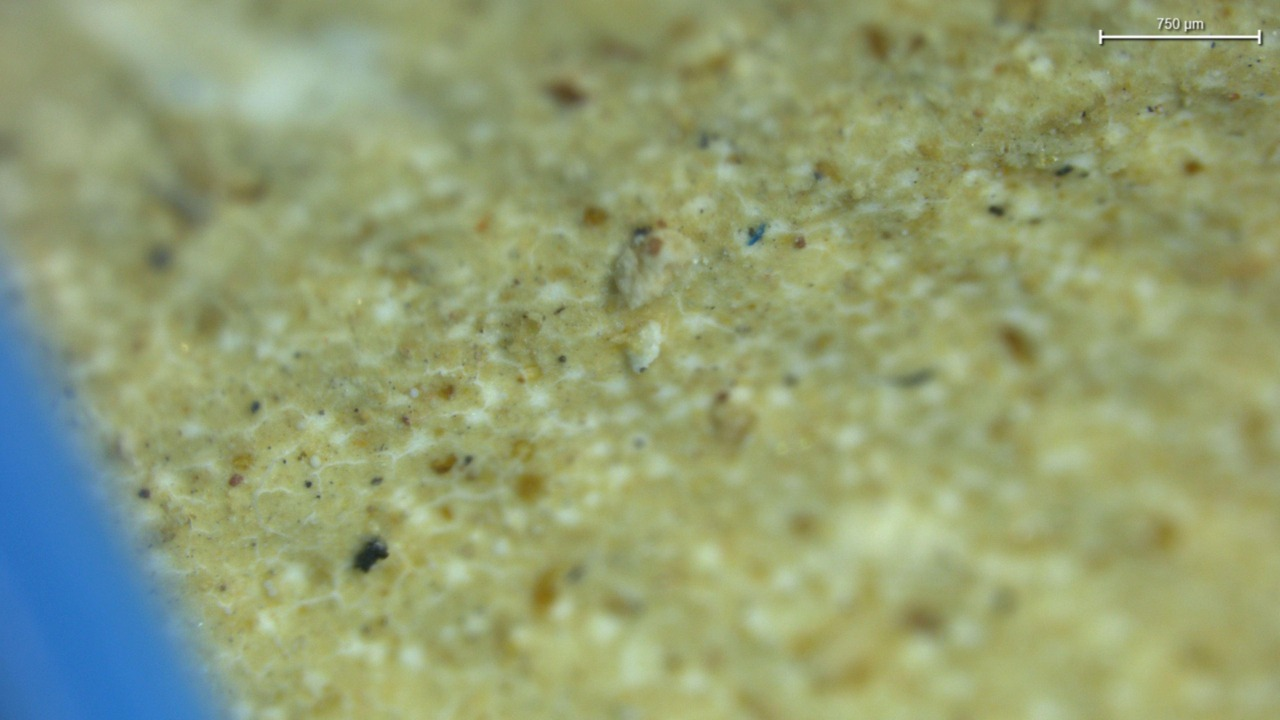microplastic_fragment: (616, 229, 702, 308), (628, 322, 662, 372)
